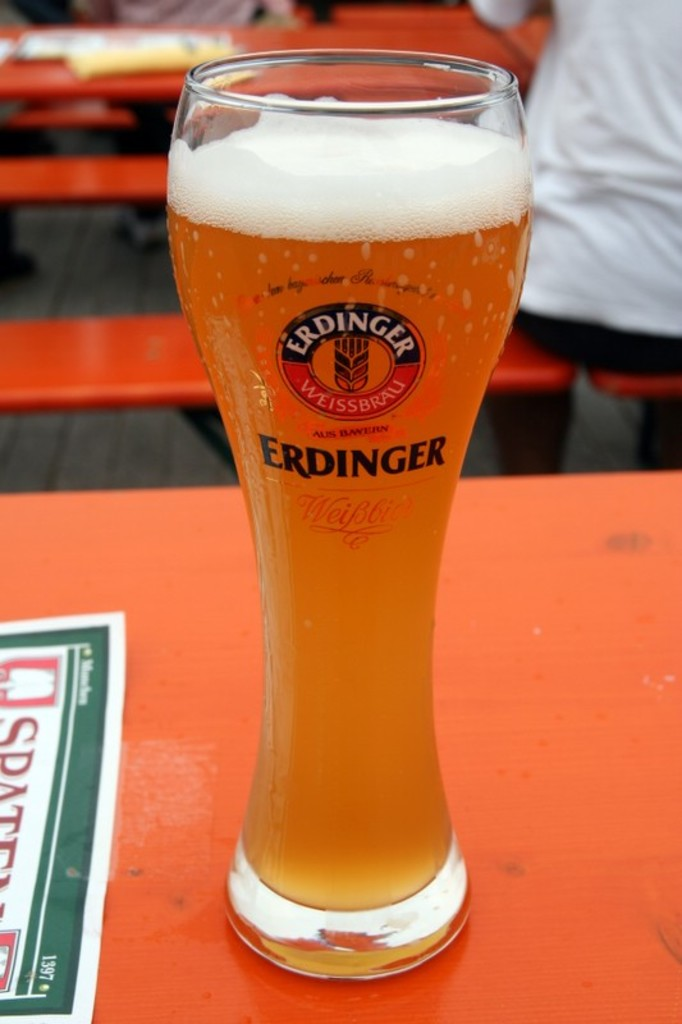Beer: (166, 93, 533, 977)
